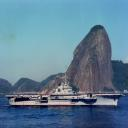Portanaves: (6, 65, 127, 109)
